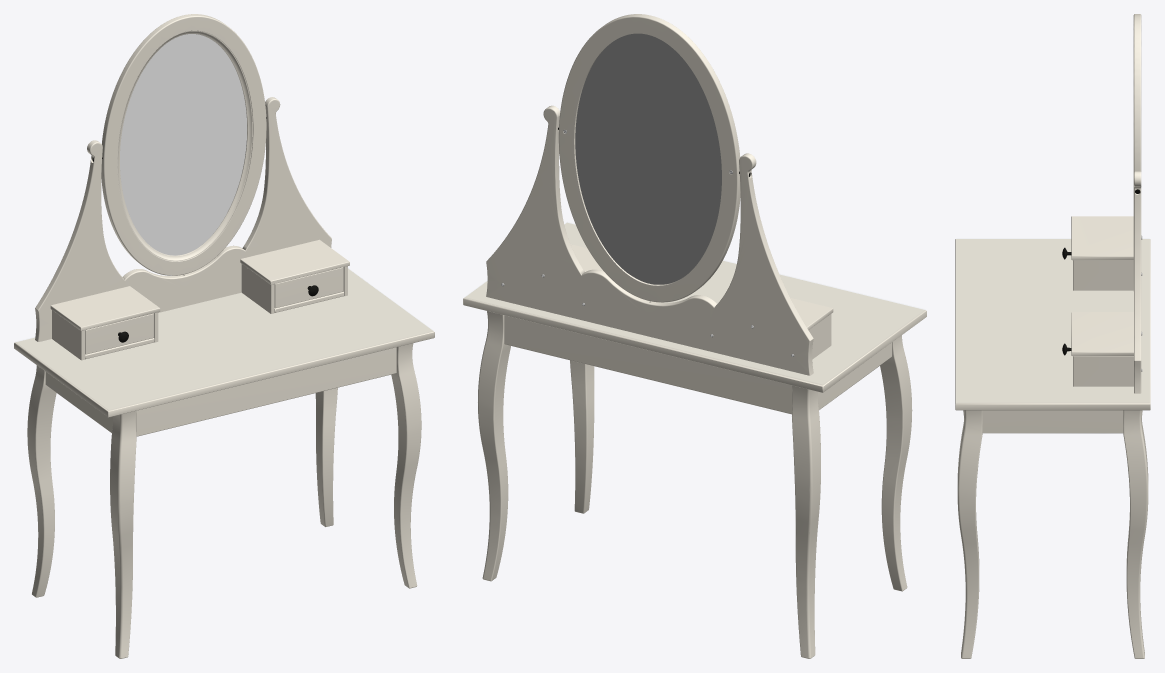
Rendered from hemnes_toaletka_30374413.glb.
The picture shows the model from 3 angles, left to right: view 1: azimuth 30°, elevation 25°; view 2: azimuth 150°, elevation 25°; view 3: azimuth 270°, elevation 25°; orthographic projection. The views are drawn at different scales.
Parts seen in each view (by area): view 1: hemnes_toaletka_30374413; view 2: hemnes_toaletka_30374413; view 3: hemnes_toaletka_30374413.
Part boxes in pixels (x1,y1,x2,y2): hemnes_toaletka_30374413: (14,14,434,658); hemnes_toaletka_30374413: (463,14,926,658); hemnes_toaletka_30374413: (955,14,1150,658).
Size of the model in its own units: 1 by 1.59 by 0.5.
2 materials, 1 textured.
